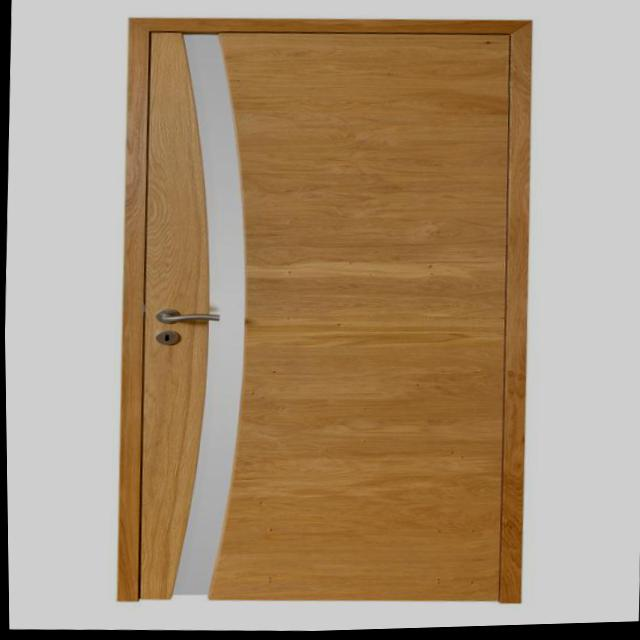close: (99, 1, 549, 626)
